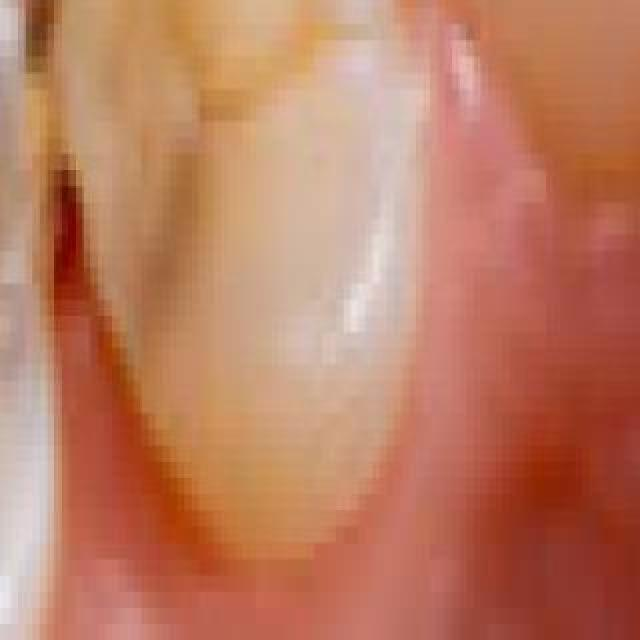cavities: (0, 0, 186, 484)
